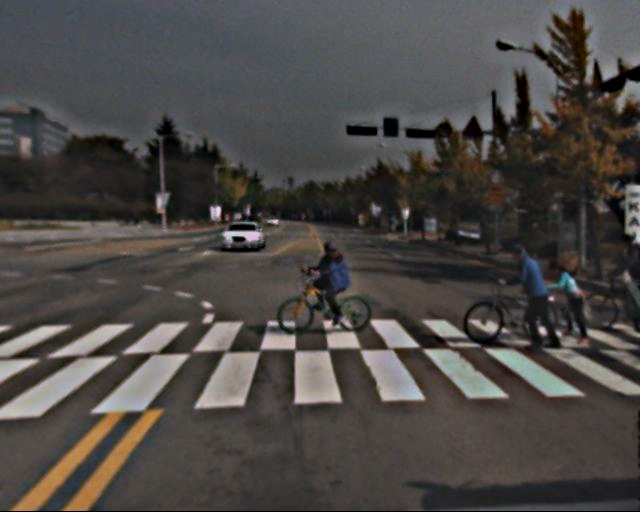person: (512, 245, 555, 351), (553, 261, 588, 347), (318, 242, 353, 327), (614, 227, 640, 324)
